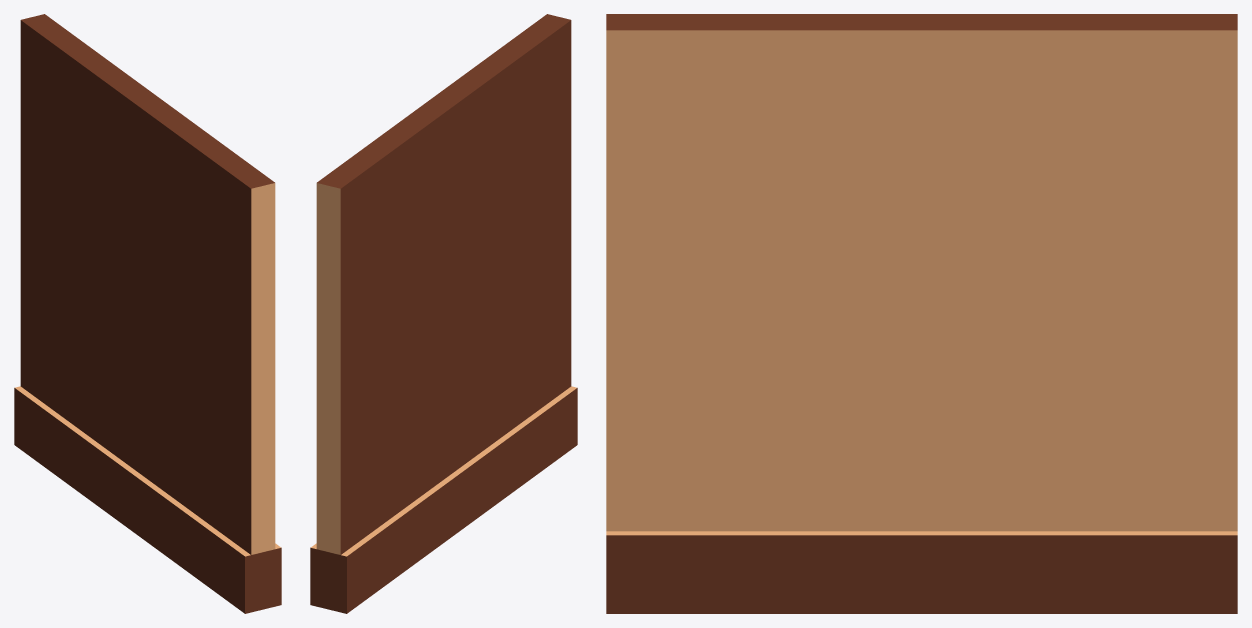
The model's file is whort_wall.dae.
The picture shows the model from 3 angles, left to right: view 1: azimuth 30°, elevation 25°; view 2: azimuth 150°, elevation 25°; view 3: azimuth 270°, elevation 25°; orthographic projection. The views are drawn at different scales.
Visible parts, largest first — view 1: wall_1.001; view 2: wall_1.001; view 3: wall_1.001.
Boxes of the visible parts, x1=… form: wall_1.001: x1=14, y1=14, x2=281, y2=613; wall_1.001: x1=310, y1=14, x2=577, y2=613; wall_1.001: x1=606, y1=14, x2=1237, y2=613.
Size of the model in its own units: 0.095 by 1.04 by 1.06.
